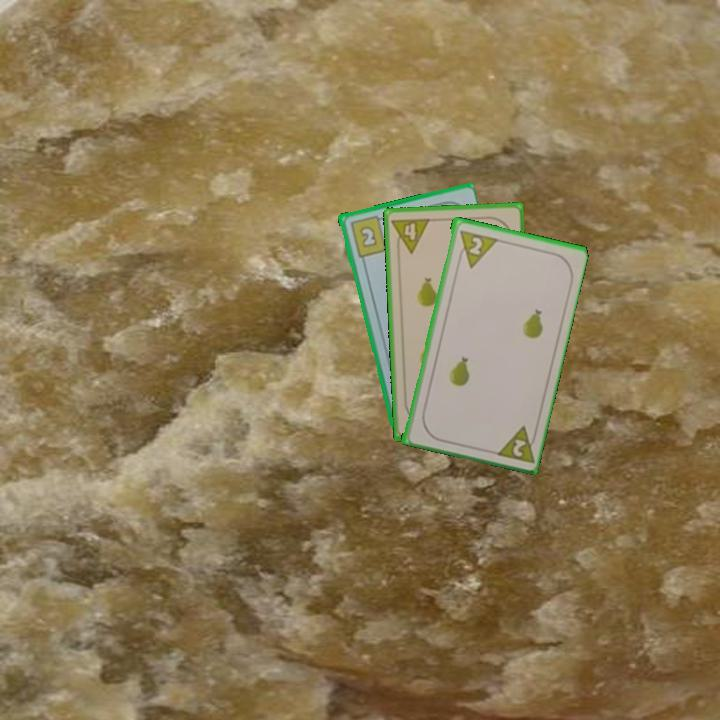2b: (346, 212, 389, 260)
2p: (491, 421, 540, 466), (455, 226, 498, 270)
4p: (388, 214, 433, 256)
